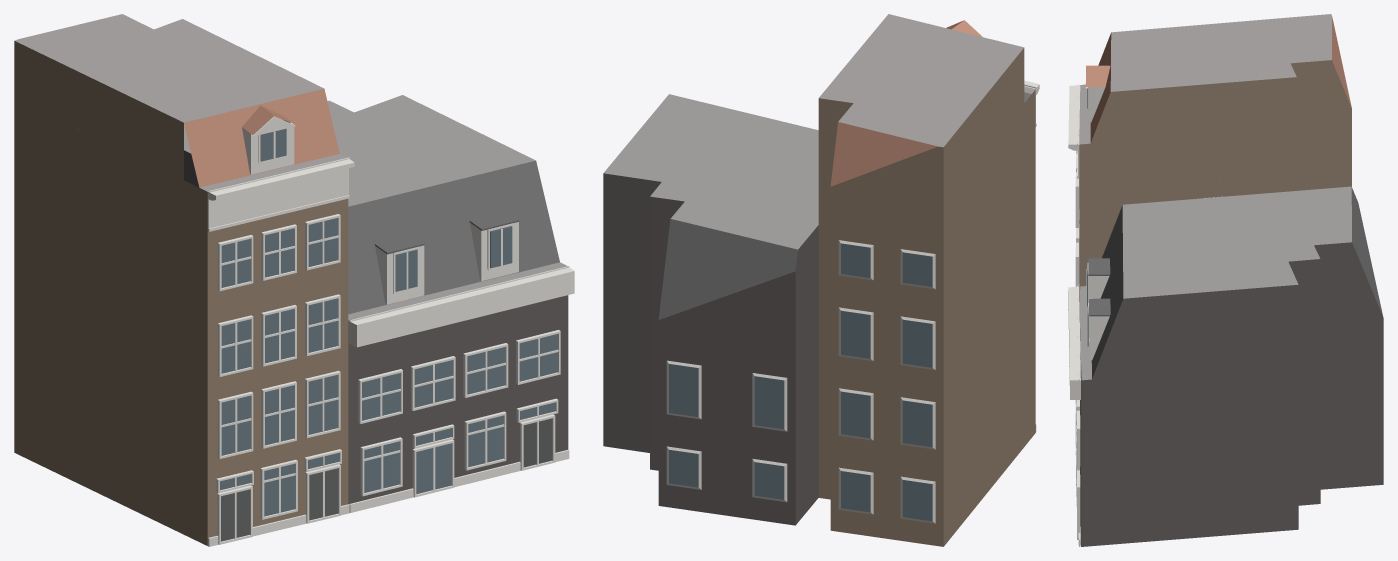
The model's file is chunk-face-achterburgwal-202-206.glb.
3 renders of one model, left to right at view 1: azimuth 30°, elevation 25°; view 2: azimuth 150°, elevation 25°; view 3: azimuth 270°, elevation 25°, orthographic. The views are drawn at different scales.
Parts seen in each view (by area): view 1: face-achterburgwal-202-206; view 2: face-achterburgwal-202-206; view 3: face-achterburgwal-202-206.
Boxes of the visible parts, x1=… form: face-achterburgwal-202-206: x1=14, y1=14, x2=574, y2=546; face-achterburgwal-202-206: x1=603, y1=14, x2=1039, y2=546; face-achterburgwal-202-206: x1=1068, y1=14, x2=1383, y2=546.
Size of the model in its own units: 15.27 by 14.66 by 11.67.
